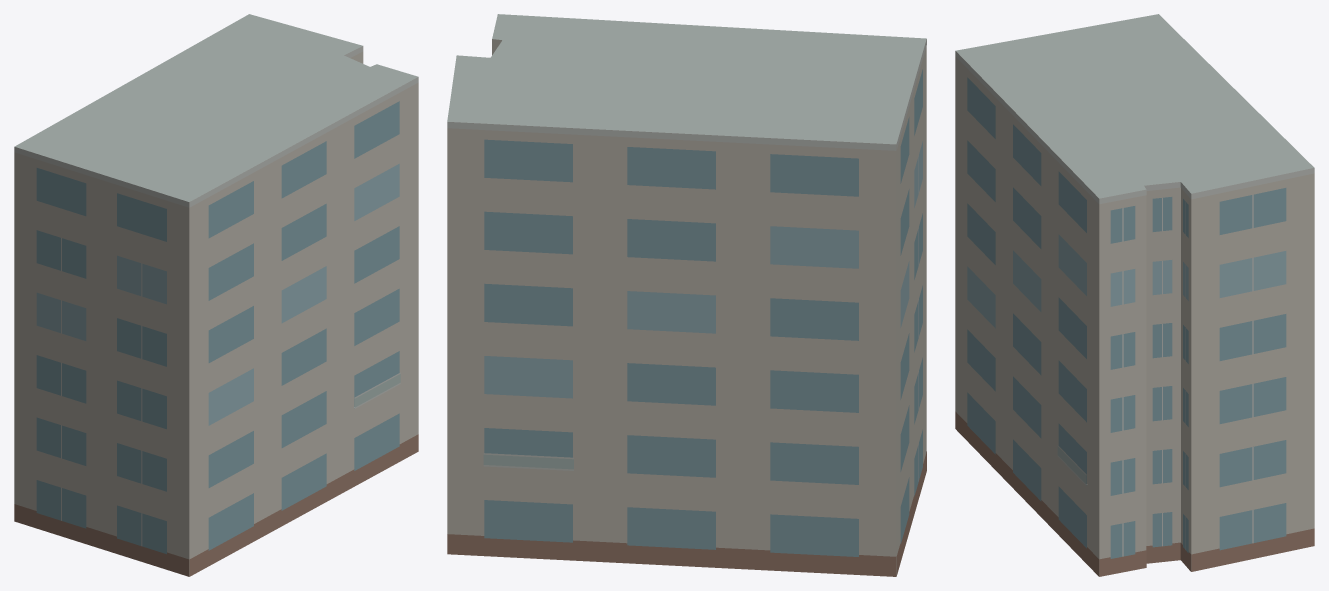
Rendered from survey-upis-32842528.glb.
The picture shows the model from 3 angles, left to right: view 1: azimuth 30°, elevation 25°; view 2: azimuth 150°, elevation 25°; view 3: azimuth 270°, elevation 25°; orthographic projection. The views are drawn at different scales.
Parts seen in each view (by area): view 1: survey-upis-32842528.tmp; view 2: survey-upis-32842528.tmp; view 3: survey-upis-32842528.tmp.
Part boxes in pixels (left/top/right/bottom): survey-upis-32842528.tmp: left=14, top=14, right=418, bottom=576; survey-upis-32842528.tmp: left=447, top=14, right=926, bottom=576; survey-upis-32842528.tmp: left=955, top=14, right=1314, bottom=576.
Size of the model in its own units: 17.13 by 16.35 by 14.08.
